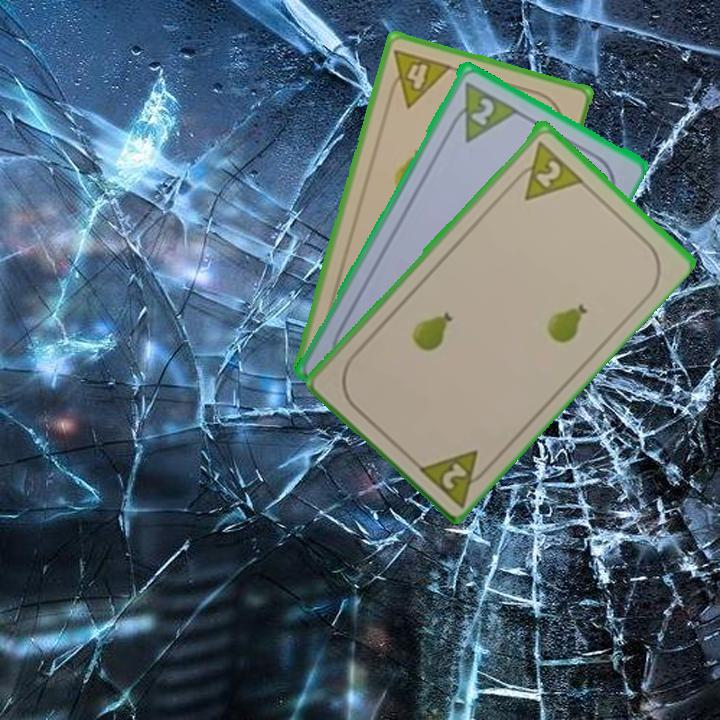2p: (412, 445, 496, 509), (506, 136, 585, 203), (443, 77, 520, 145)
4p: (383, 45, 455, 111)
